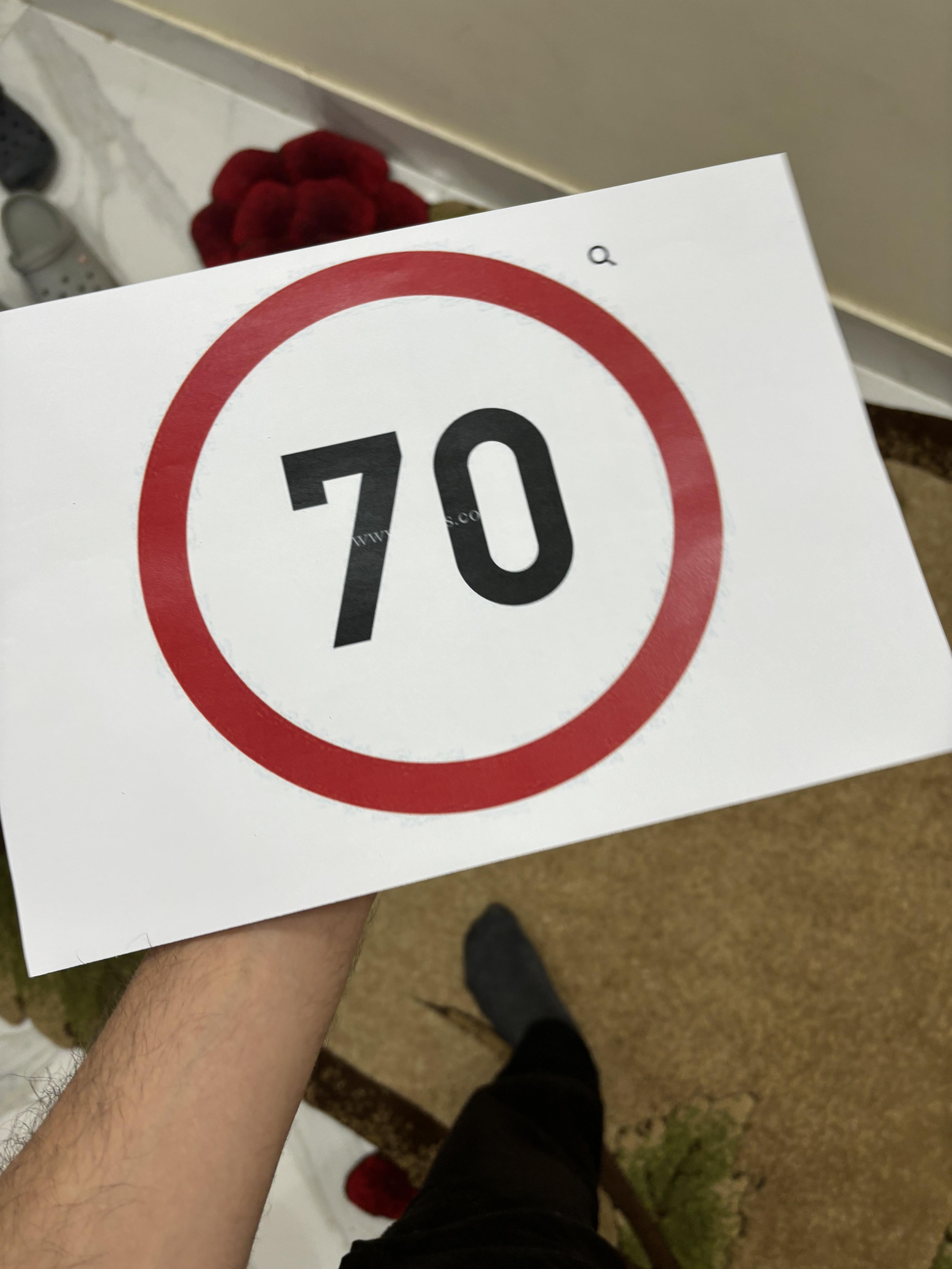70-Speed: (132, 243, 734, 819)
